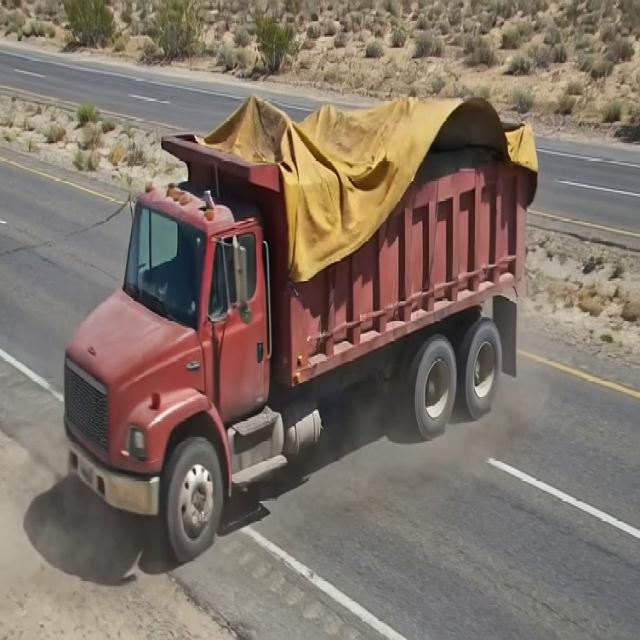Box: (163, 101, 551, 202)
Truck: (58, 66, 564, 554)
